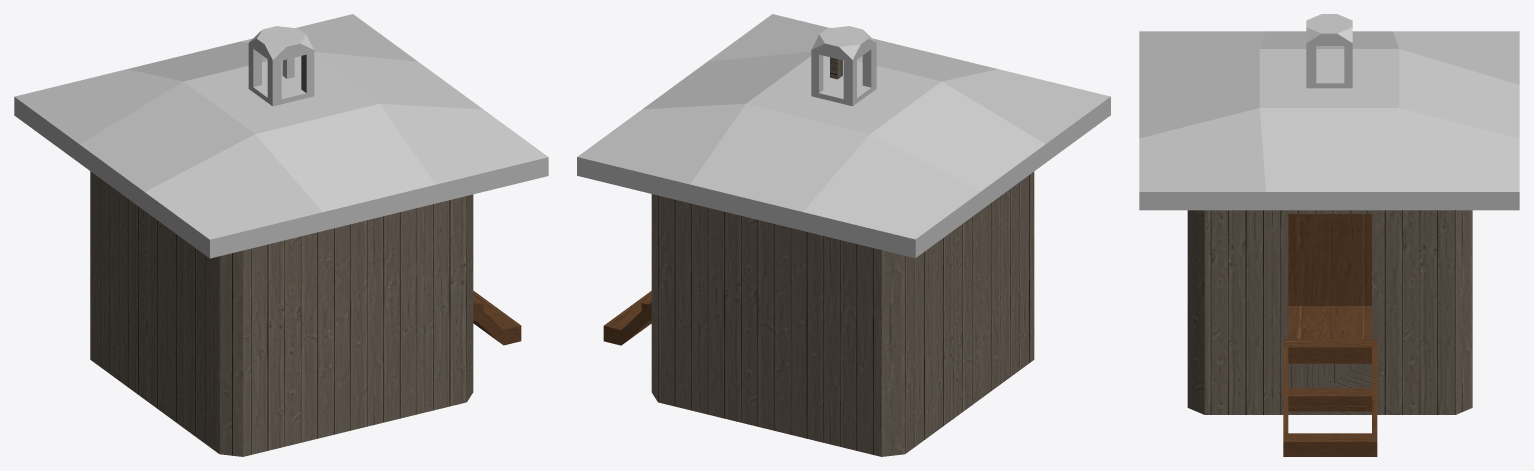
The model's file is house.fbx.
3 views of the same model, side by side, from view 1: azimuth 30°, elevation 25°; view 2: azimuth 150°, elevation 25°; view 3: azimuth 270°, elevation 25° (orthographic). The views are drawn at different scales.
Parts seen in each view (by area): view 1: Cube.002; view 2: Cube.002; view 3: Cube.002.
Boxes of the visible parts, x1,y1,x2,y2 form: Cube.002: (14,14,548,456); Cube.002: (577,14,1110,456); Cube.002: (1139,14,1519,456).
Bounding box in the file's own units: 1033 × 883 × 908.
